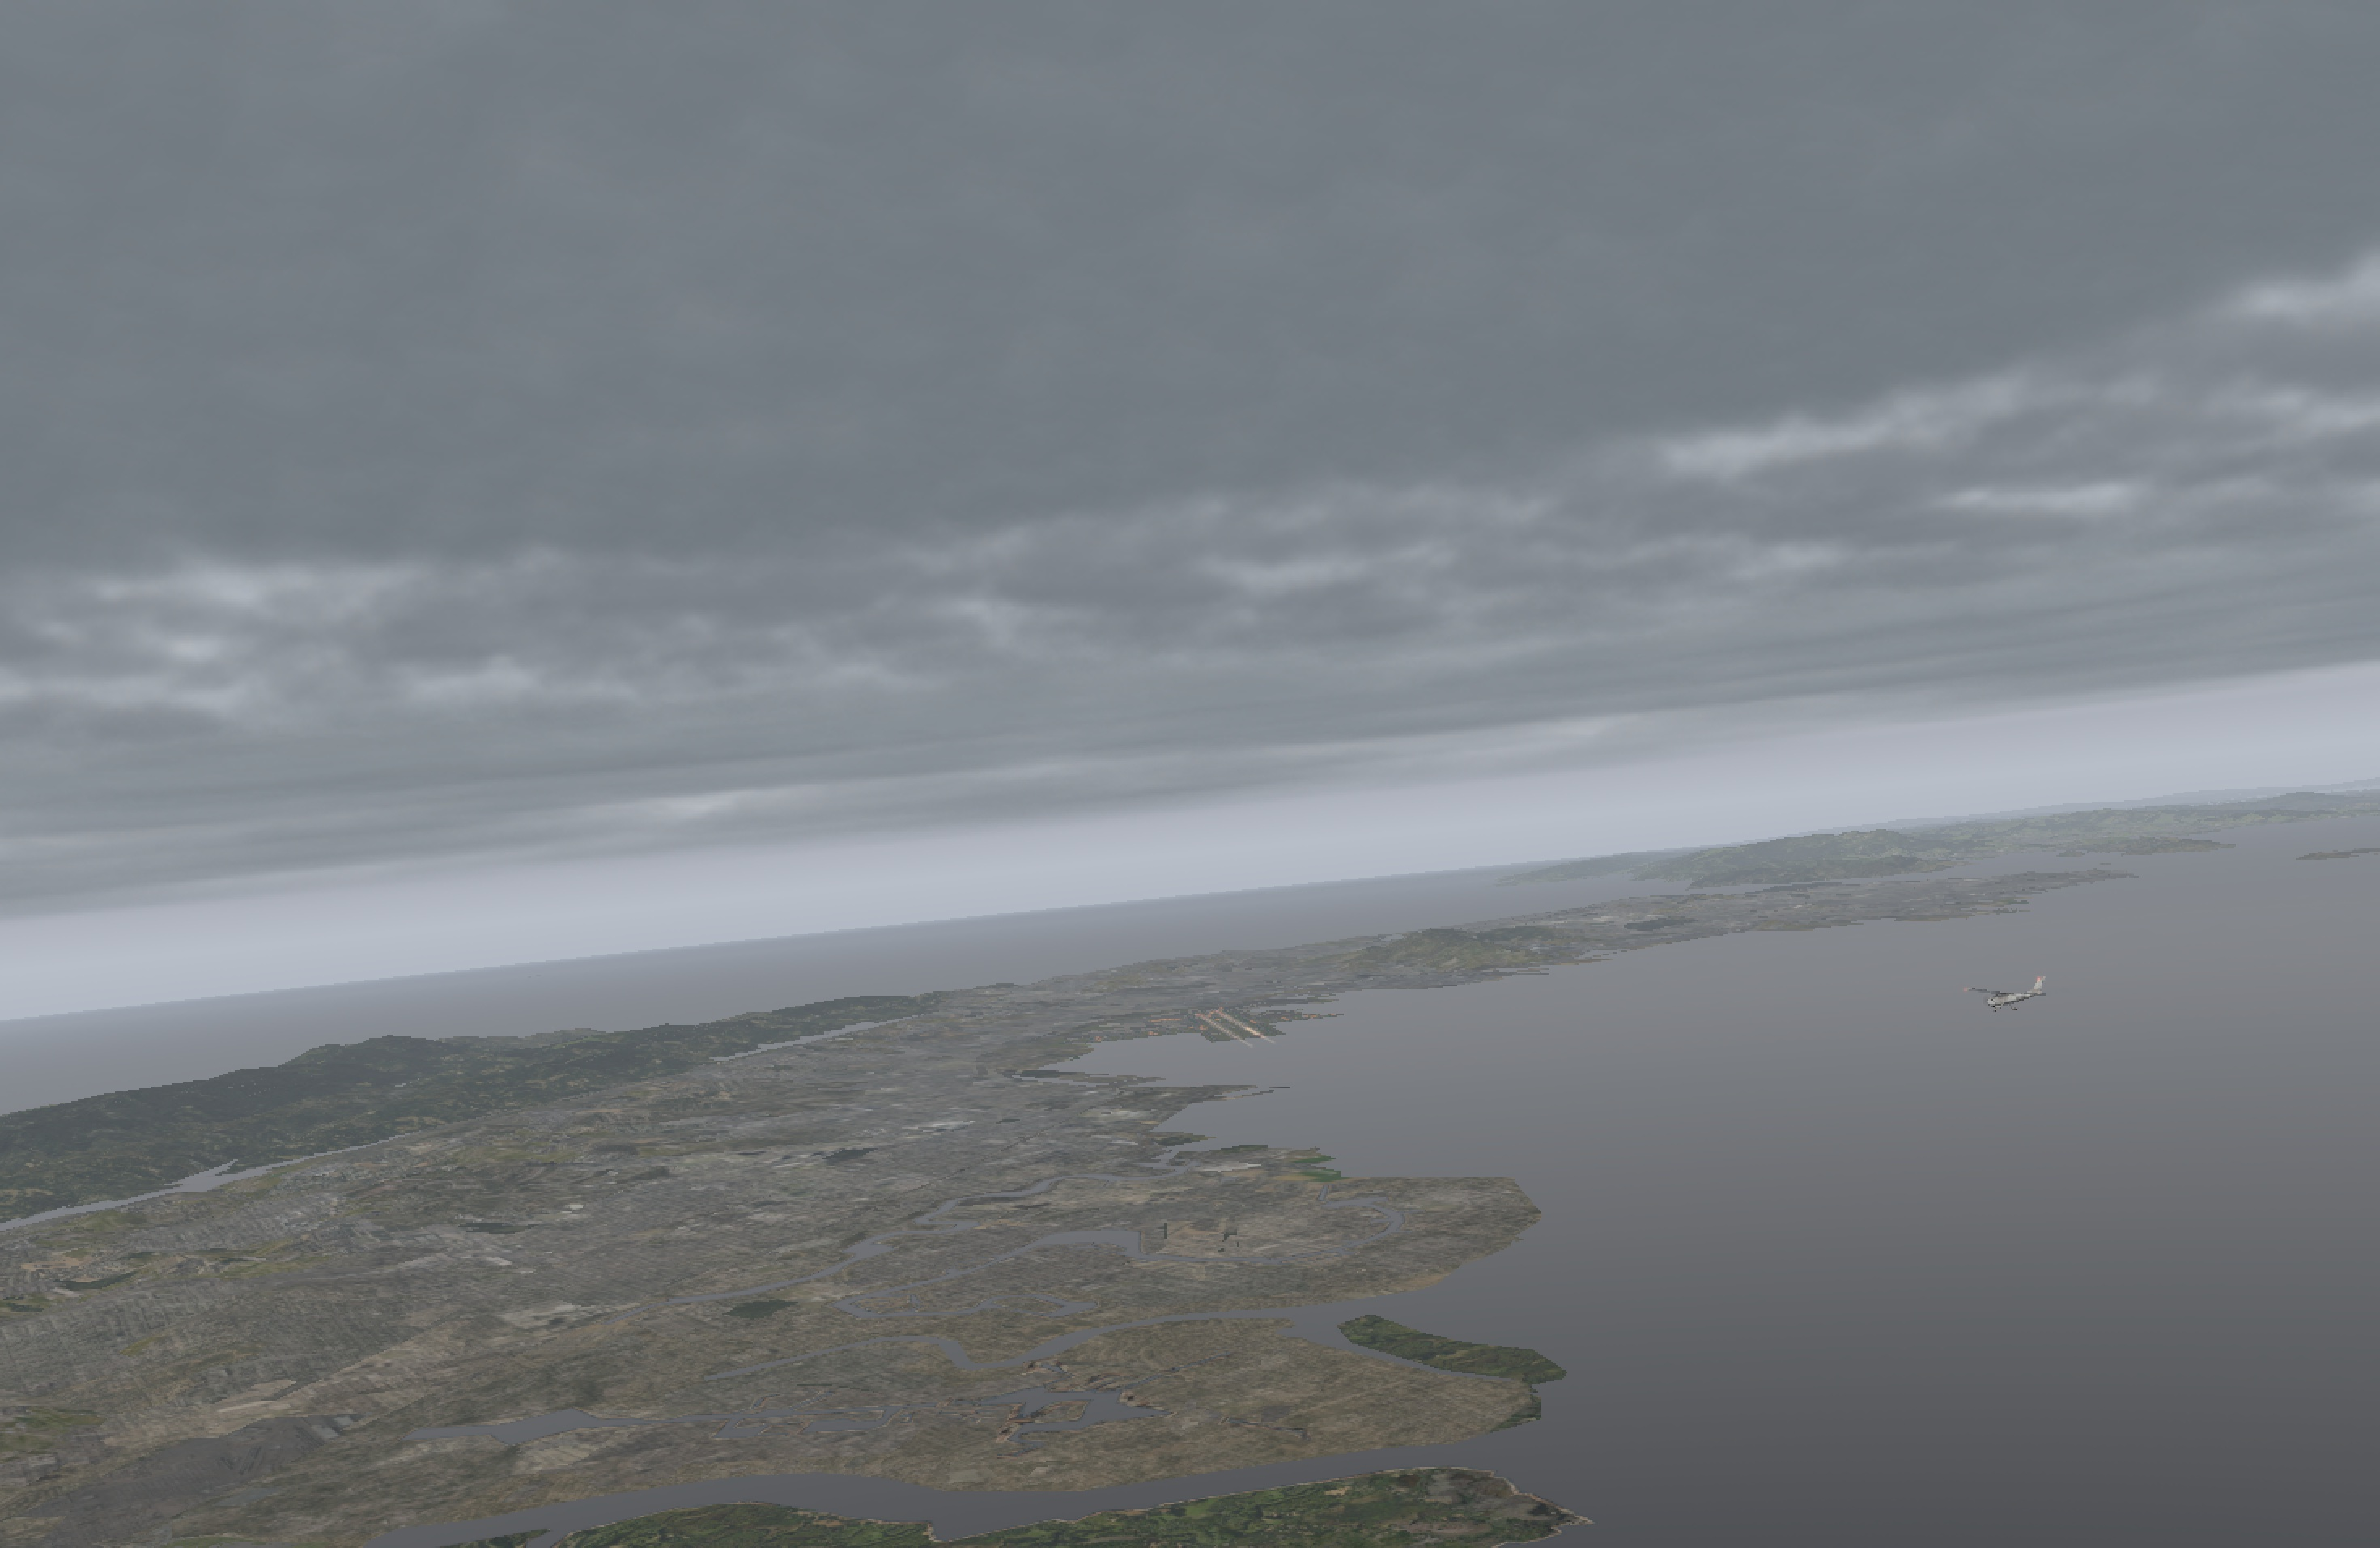aircraft: (1971, 986, 2037, 1010)
